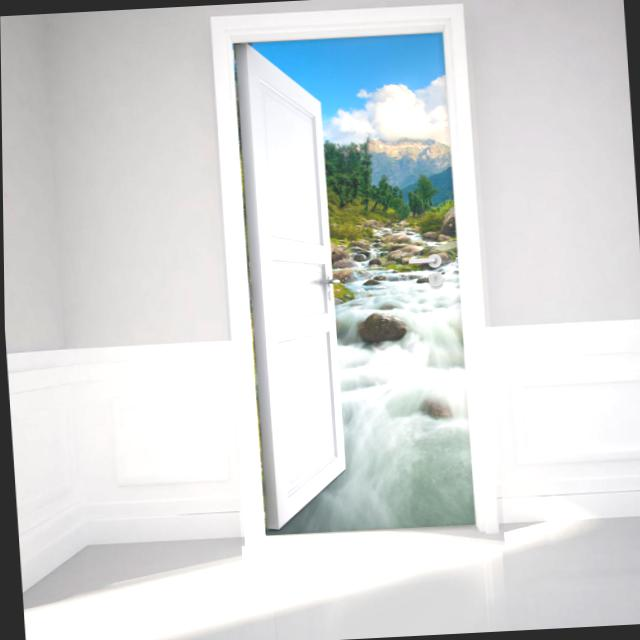open: (205, 0, 506, 561)
